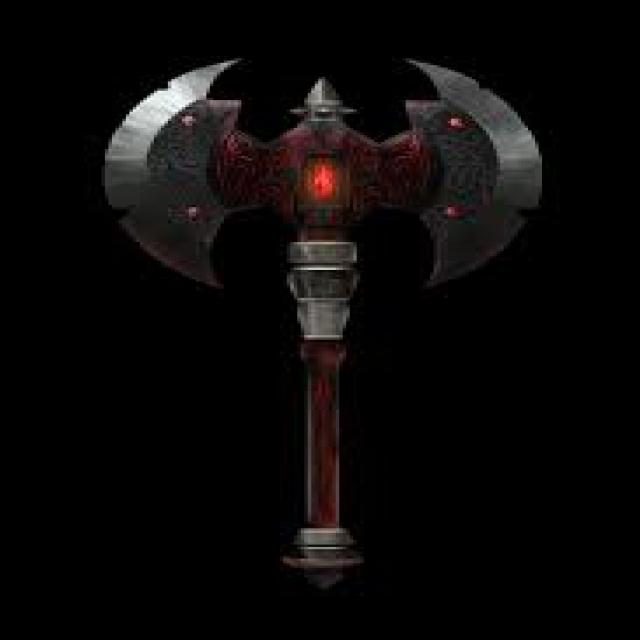Gun: (78, 48, 570, 595)
